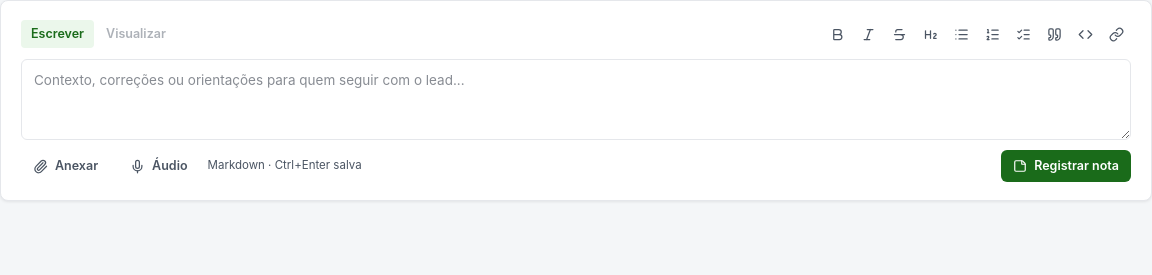
Test: NoteComposer — menções › renderiza a menção como chip na prévia, nunca como link
Type "@car" into the text box named "Corpo da nota" at (576, 100), box x1=21 y1=59 x2=1131 y2=140
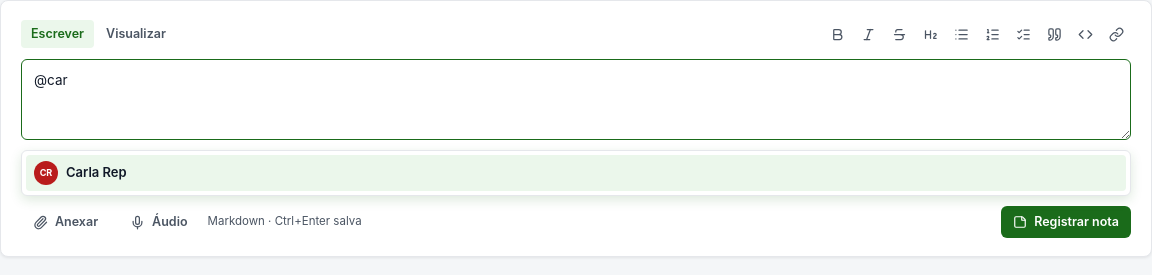
Click the option "CR Carla Rep" at (96, 172), box x1=26 y1=155 x2=1126 y2=191
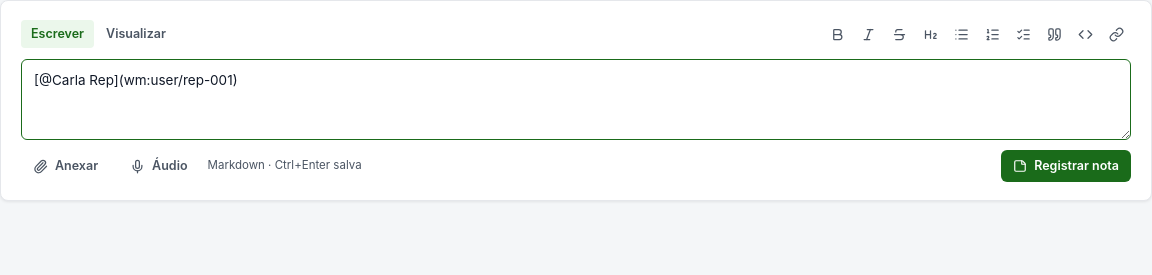
Click the tab "Visualizar" at (136, 34), box x1=96 y1=20 x2=176 y2=48
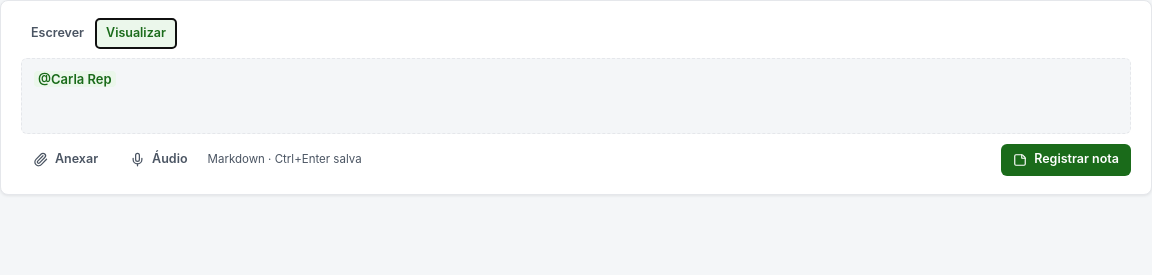
expect the text with class "md-mention" reads "@Carla Rep": met, box x1=38 y1=71 x2=112 y2=87
